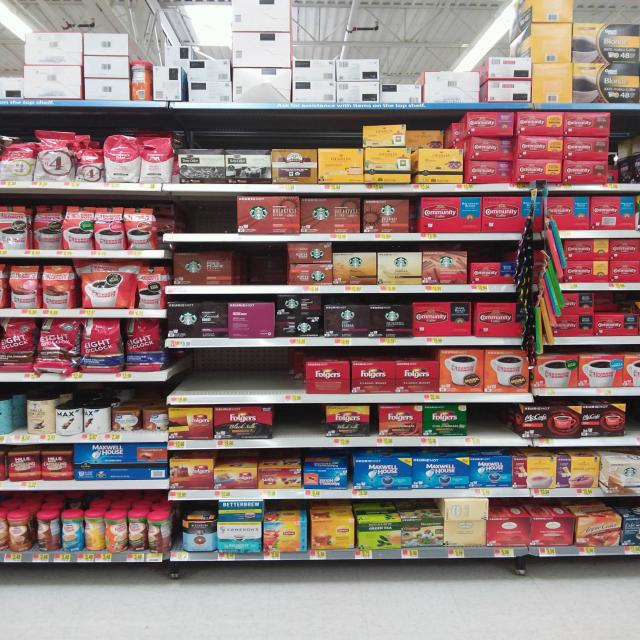void: (254, 345, 299, 408), (239, 242, 286, 296), (472, 404, 522, 446), (178, 349, 215, 405), (277, 406, 323, 448), (217, 347, 249, 406), (172, 197, 204, 247), (206, 194, 236, 244)
